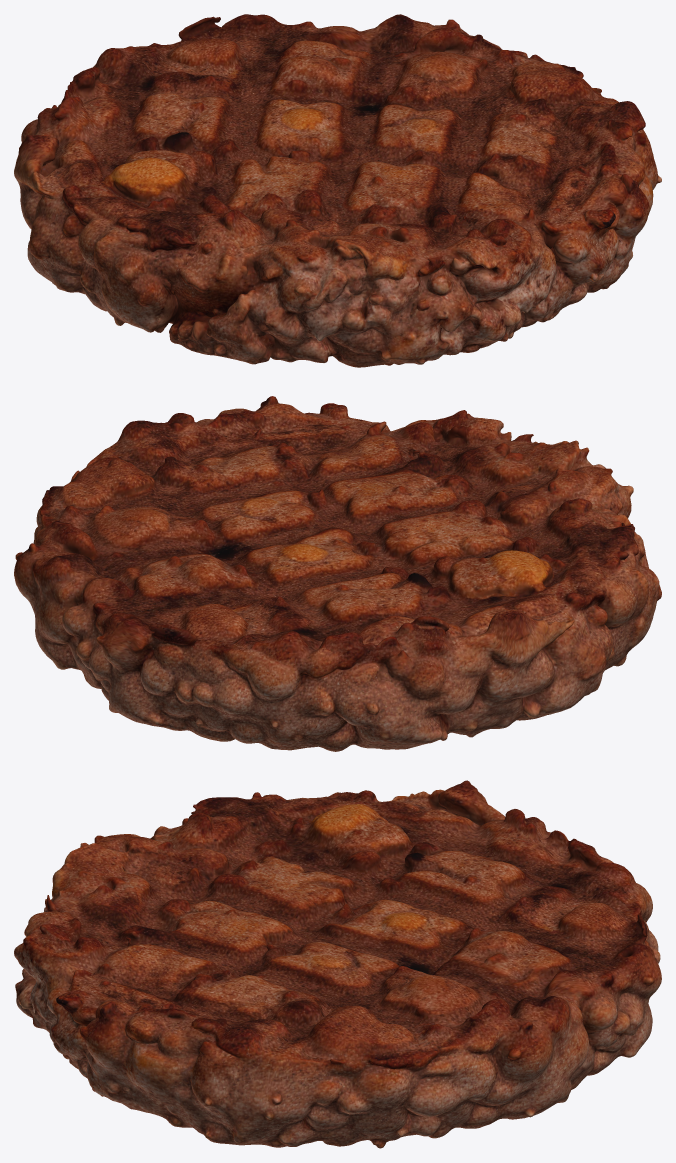
The model's file is patty.glb.
The picture shows the model from 3 angles, top to bottom: view 1: azimuth 30°, elevation 25°; view 2: azimuth 150°, elevation 25°; view 3: azimuth 270°, elevation 25°; orthographic projection.
Parts seen in each view (by area): view 1: tripo_node_be62c64f-721d-4c32-bfe6-9697ad72a5a9; view 2: tripo_node_be62c64f-721d-4c32-bfe6-9697ad72a5a9; view 3: tripo_node_be62c64f-721d-4c32-bfe6-9697ad72a5a9.
Boxes of the visible parts, x1,y1,x2,y2 form: tripo_node_be62c64f-721d-4c32-bfe6-9697ad72a5a9: (14, 14, 661, 367); tripo_node_be62c64f-721d-4c32-bfe6-9697ad72a5a9: (14, 396, 661, 751); tripo_node_be62c64f-721d-4c32-bfe6-9697ad72a5a9: (14, 780, 661, 1148).
Bounding box in the file's own units: 1.02 × 0.2286 × 1.
1 material, 1 textured.
